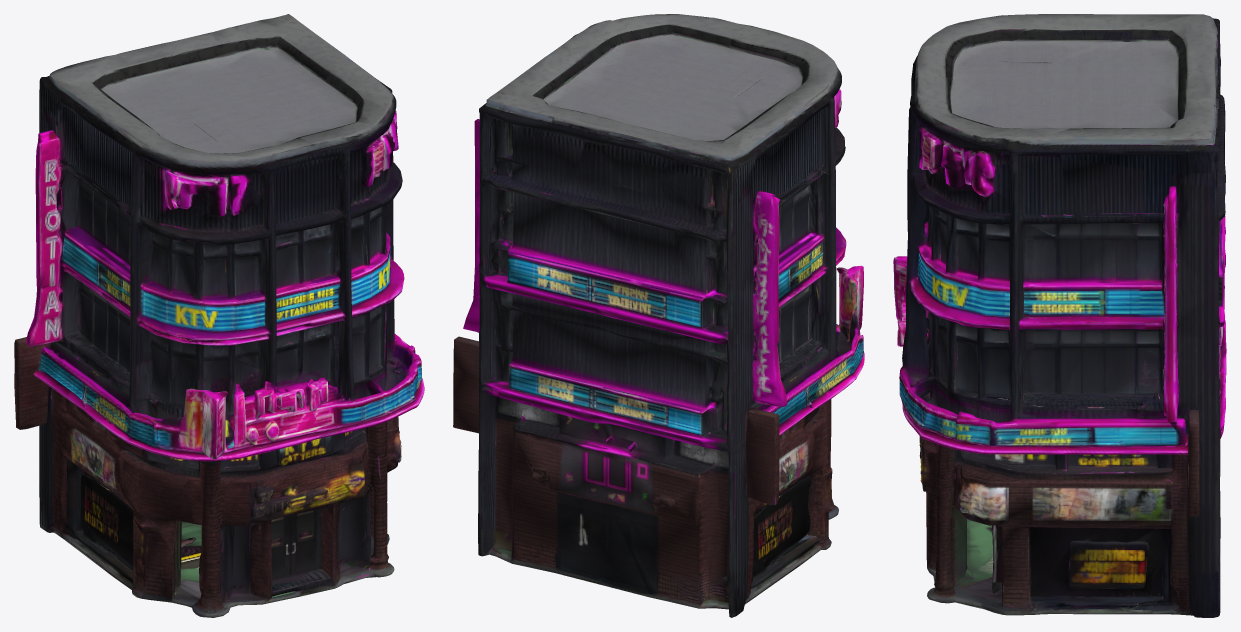
File: ximen_ktv_building_01.glb
3 renders of one model, left to right at view 1: azimuth 30°, elevation 25°; view 2: azimuth 150°, elevation 25°; view 3: azimuth 270°, elevation 25°, orthographic. The views are drawn at different scales.
Bounding box in the file's own units: 1.48 × 2 × 1.26.
1 material, 1 textured.
